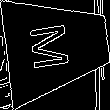M_E: (32, 20, 81, 73)
